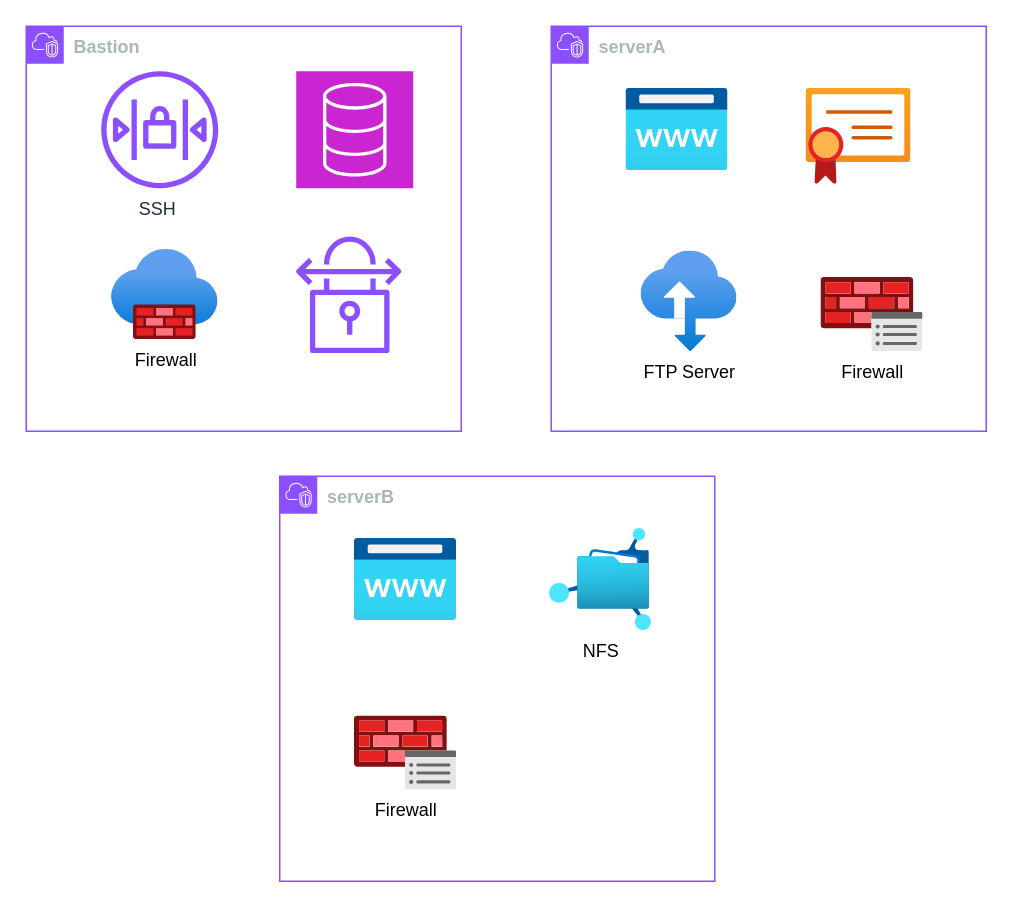
This 1013x908 diagram has some shape labels left out. The box of each missing label's shape, as (x1, y1, x2, y2) in pixels:
Apache2: (354, 538, 456, 620)
MariaDB: (295, 70, 413, 188)
Nginx: (626, 88, 728, 170)
SSL: (806, 88, 910, 184)
VPN: (296, 236, 400, 352)
